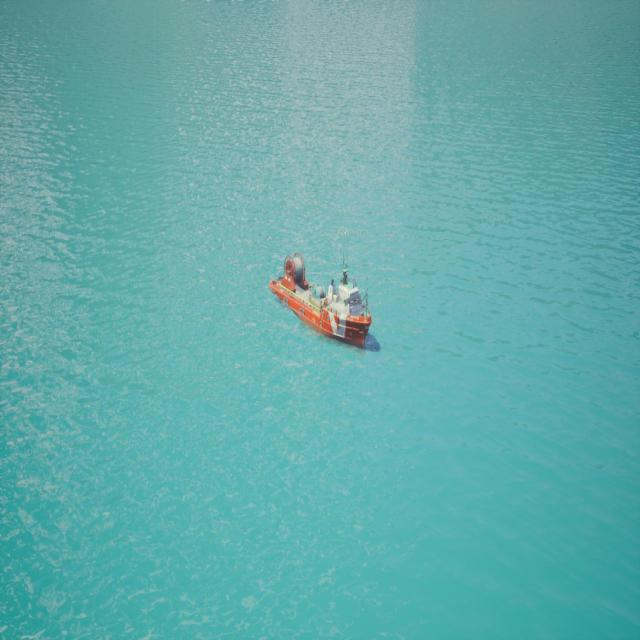tug boat: (269, 275, 379, 352)
